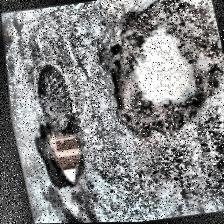pothole: (93, 9, 217, 138), (22, 118, 90, 192)
